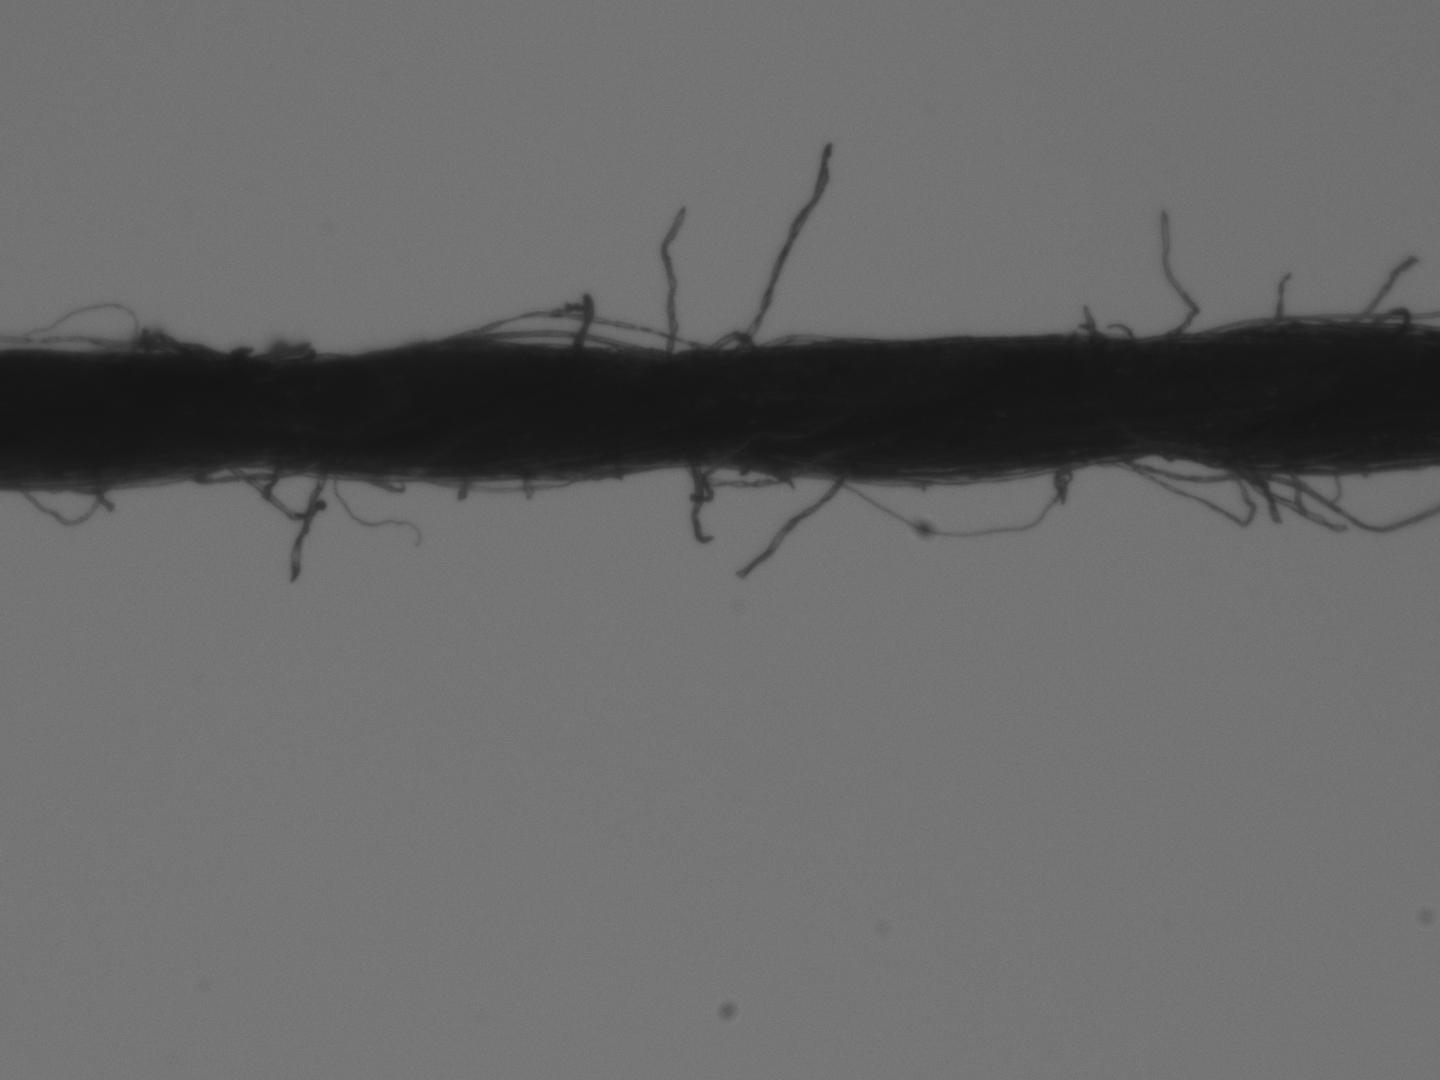loop_fiber: (831, 469, 1082, 538), (455, 311, 701, 353), (1112, 453, 1248, 523), (686, 457, 811, 493), (16, 486, 110, 533), (1123, 454, 1254, 476), (192, 465, 311, 488), (482, 328, 608, 348), (117, 328, 196, 355), (1370, 303, 1417, 331), (704, 330, 751, 355)
protruding_fiber: (736, 144, 827, 353), (737, 471, 842, 575), (1163, 213, 1201, 339), (661, 205, 688, 348), (1358, 255, 1418, 320), (293, 475, 320, 573), (1273, 272, 1295, 327)
